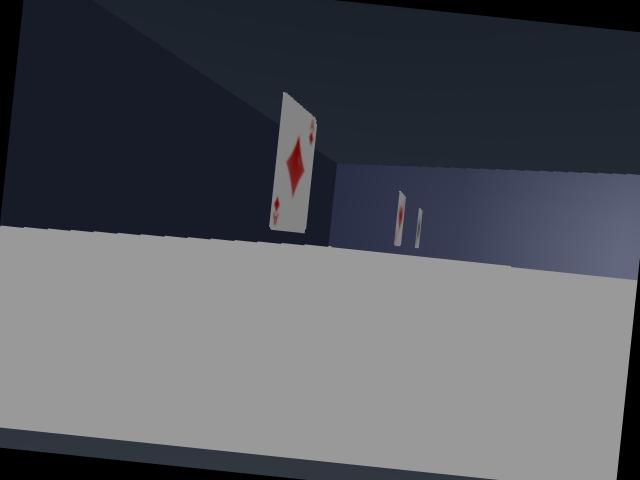diamond: (269, 93, 316, 232), (394, 191, 405, 245)
